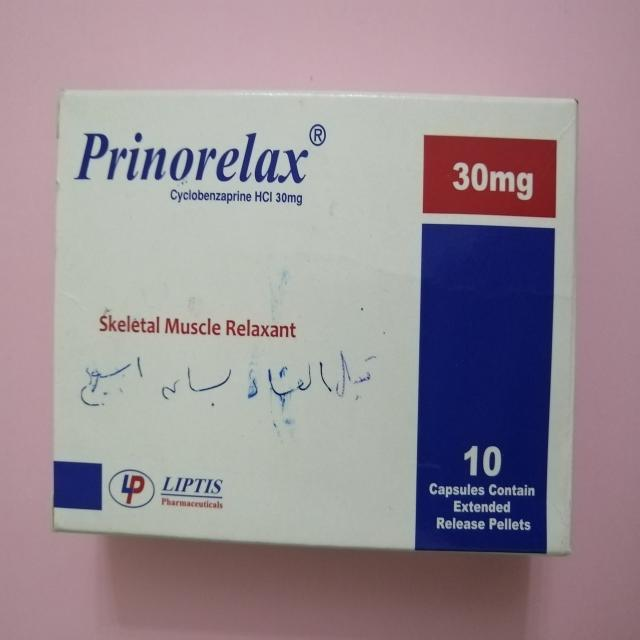Medicine Name: (71, 119, 311, 190)
